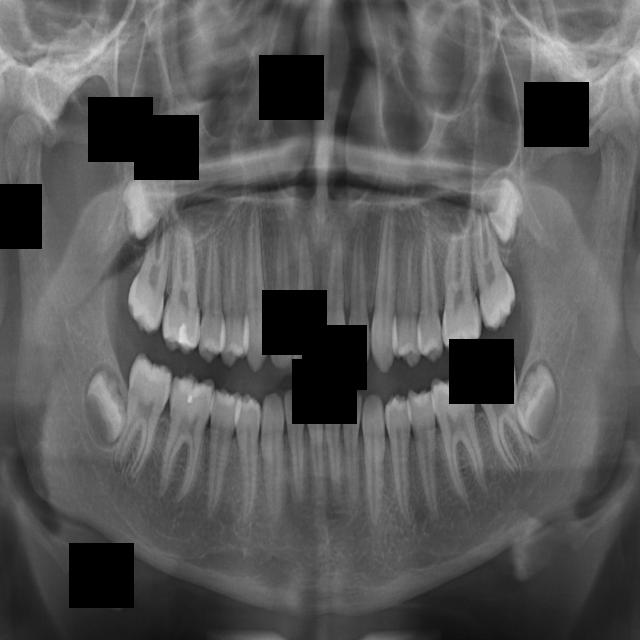3M ESPE Implant: (106, 164, 179, 250)
AGS Medikal Implant: (465, 342, 546, 489)
AMerOss Implant: (424, 367, 502, 516)
Amalgam filling: (120, 212, 177, 341)
Anthogyr Implant: (401, 380, 456, 530)
Bicon Implant: (381, 387, 423, 532)
BioHorizons Implant: (360, 392, 389, 534)
BioLife Implant: (340, 386, 362, 507)
Biomet 3i Implant: (323, 384, 343, 509)
Blue Sky Bio Implant: (301, 385, 332, 509)
Camlog Implant: (281, 384, 313, 507)
Caries: (347, 214, 368, 371)
Composite filling: (261, 388, 284, 530)
Cowellmedi Implant: (235, 388, 265, 532)
Crown: (204, 386, 236, 529)
DENTSPLY Implant: (158, 217, 212, 361)
Dentatus Implant: (151, 367, 215, 513)
Dentis Implant: (100, 348, 177, 492)
Dentium Implant: (74, 356, 133, 446)
Euroteknika Implant: (196, 217, 229, 367)
Filling: (218, 191, 250, 369)
Frontier Implant: (241, 192, 271, 374)
Hiossen Implant: (370, 182, 398, 379)
Implant: (289, 216, 319, 380)
Implant Direct: (267, 211, 298, 373)
Keystone Dental Implant: (316, 205, 347, 377)
MIS Implant: (397, 221, 423, 371)
Mandible: (415, 215, 446, 366)
Maxilla: (431, 221, 485, 357)
Megagen Implant: (470, 204, 519, 337)
Neodent Implant: (478, 170, 541, 250)
Neoss Implant: (514, 355, 569, 447)
